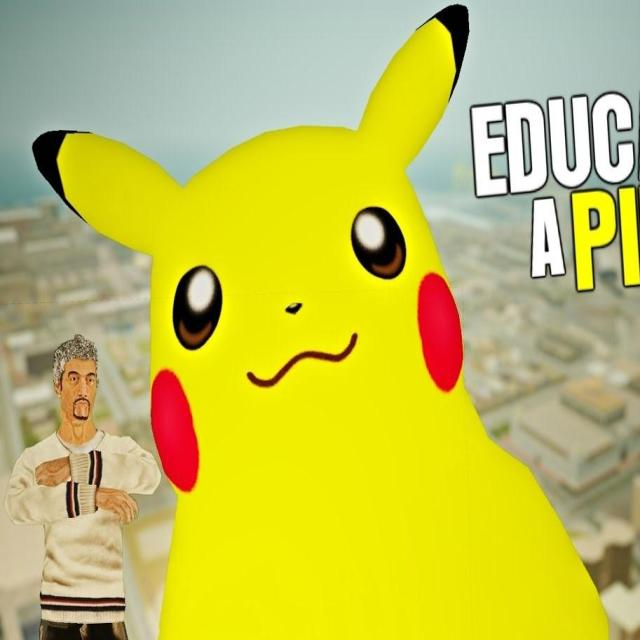pikachu: (34, 4, 606, 636)
